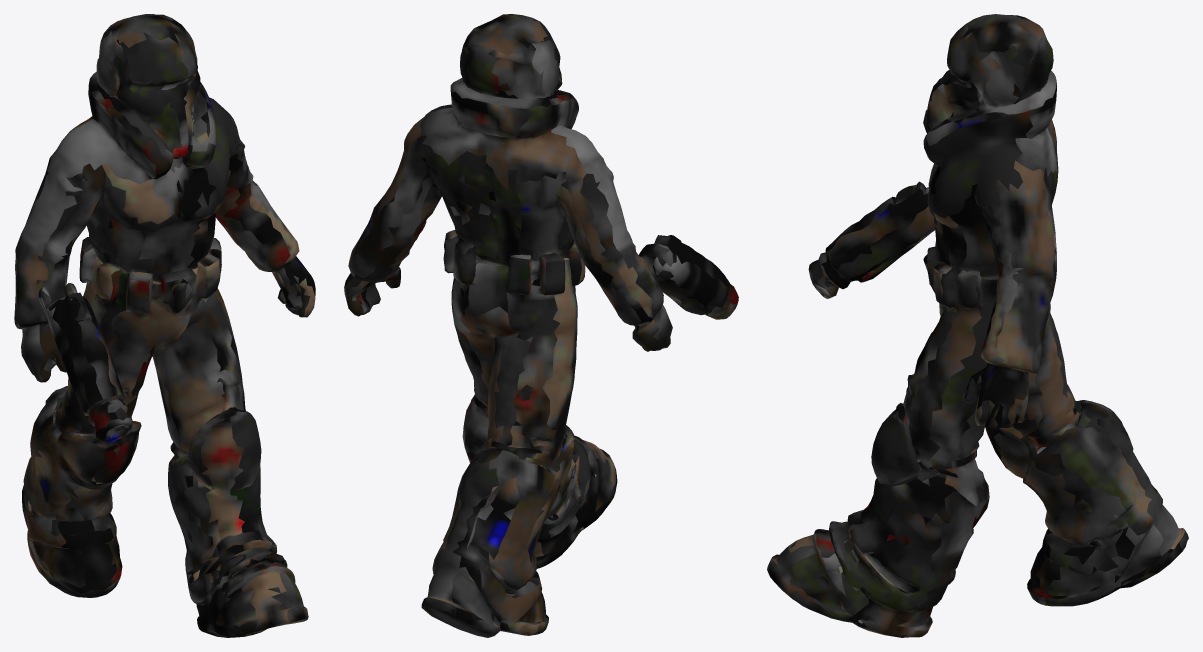
Rendered from POSSC1.obj.
The picture shows the model from 3 angles, left to right: view 1: azimuth 30°, elevation 25°; view 2: azimuth 150°, elevation 25°; view 3: azimuth 270°, elevation 25°; orthographic projection. The views are drawn at different scales.
Bounding box in the file's own units: 0.5419 × 1 × 0.6429.
1 material, 1 textured.
